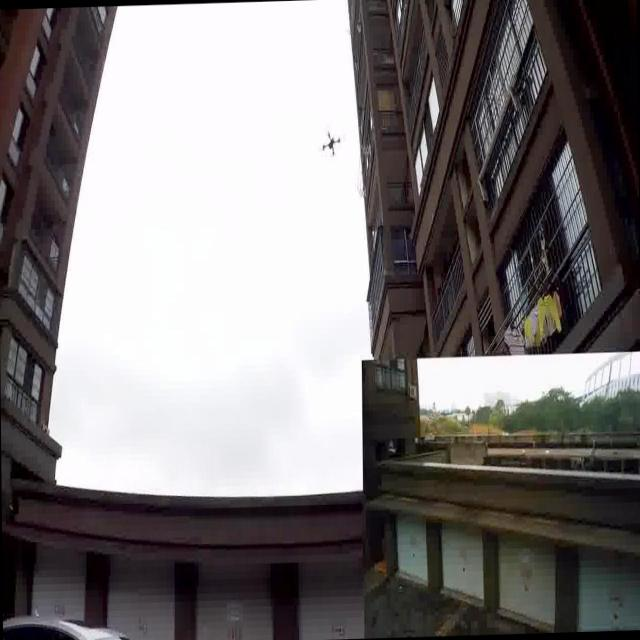drone: (318, 123, 342, 159)
